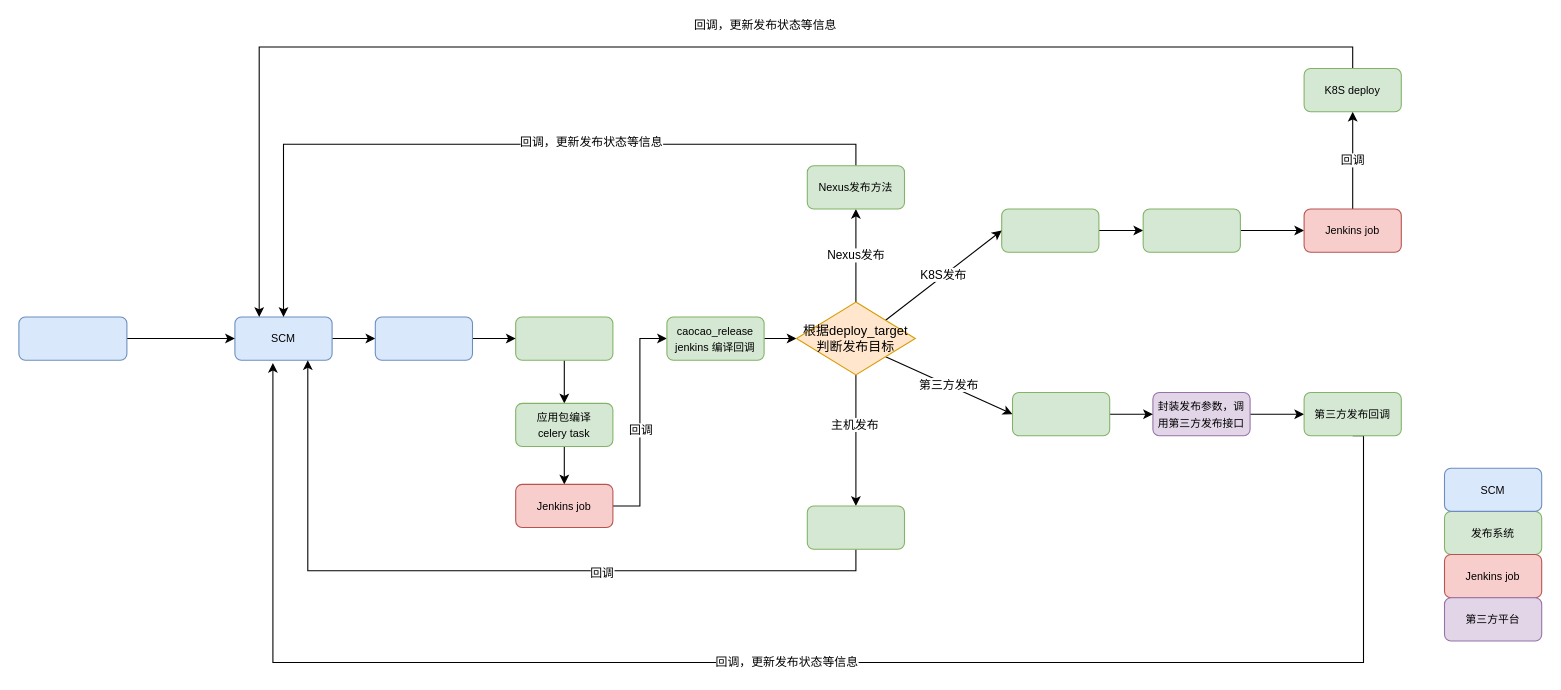
Image size: 1561x690. Some labels were removed from this diagram. The centre of each missing label's shape, as x and y in pixels:
"caocao_release 编译发布接口" belongs at point (564, 338).
"docker镜像编译 celery task" belongs at point (1191, 230).
"K8S发布方法" belongs at point (1050, 230).
"SCM web页面 编译发布、docker编译发布等按钮" belongs at point (72, 338).
"原有发布逻辑 (ECS主机发布)" belongs at point (855, 527).
"根据deploy_target调用不同的方法" belongs at point (423, 338).
"第三方发布方法" belongs at point (1060, 414).
